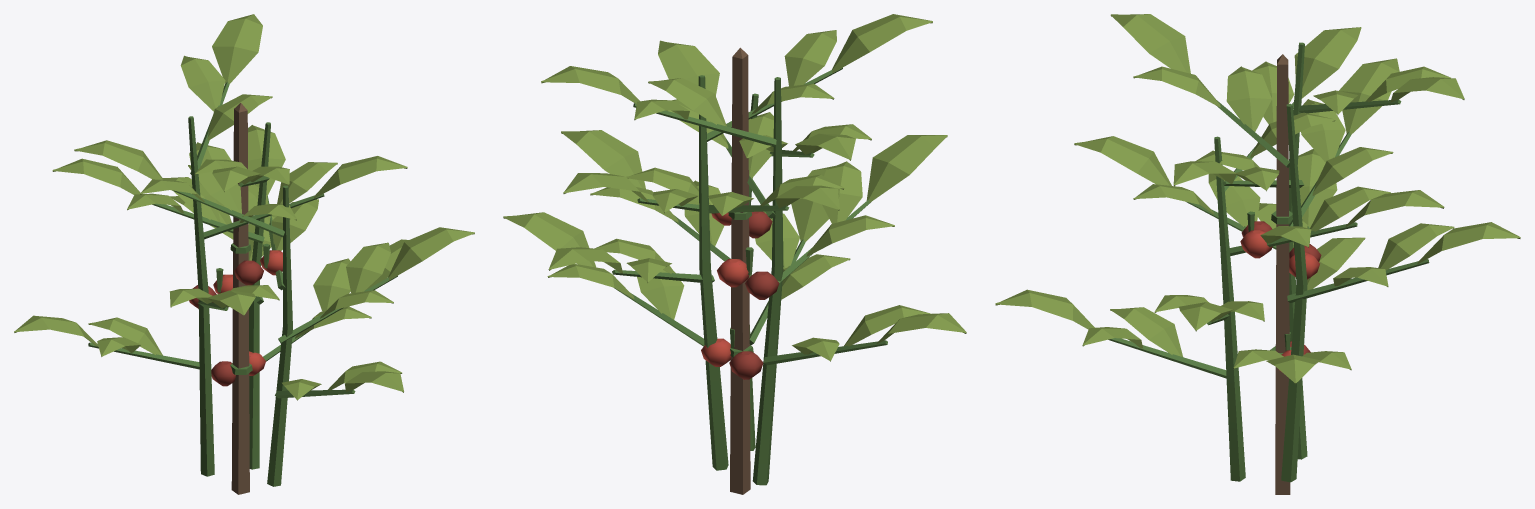
Rendered from crop_tomato_mature.glb.
3 renders of one model, left to right at view 1: azimuth 30°, elevation 25°; view 2: azimuth 150°, elevation 25°; view 3: azimuth 270°, elevation 25°, orthographic. The views are drawn at different scales.
Visible parts, largest first — view 1: tomato_leaf_00_00_leaflet_00, tomato_cluster_00_fruit_00_calyx_0, tomato_stake, tomato_cluster_00_fruit_01_body, tomato_cluster_00_fruit_00_body; view 2: tomato_leaf_00_00_leaflet_00, tomato_cluster_00_fruit_00_calyx_0, tomato_stake, tomato_cluster_00_fruit_01_body, tomato_cluster_00_fruit_00_body; view 3: tomato_leaf_00_00_leaflet_00, tomato_cluster_00_fruit_00_calyx_0, tomato_stake, tomato_cluster_00_fruit_00_body.
Boxes of the visible parts, x1=… form: tomato_leaf_00_00_leaflet_00: x1=14, y1=14, x2=474, y2=400; tomato_cluster_00_fruit_00_calyx_0: x1=88, y1=81, x2=397, y2=486; tomato_stake: x1=231, y1=103, x2=249, y2=494; tomato_cluster_00_fruit_01_body: x1=189, y1=260, x2=263, y2=386; tomato_cluster_00_fruit_00_body: x1=213, y1=250, x2=282, y2=375; tomato_leaf_00_00_leaflet_00: x1=503, y1=14, x2=966, y2=361; tomato_cluster_00_fruit_00_calyx_0: x1=612, y1=67, x2=887, y2=485; tomato_stake: x1=730, y1=47, x2=750, y2=494; tomato_cluster_00_fruit_01_body: x1=729, y1=211, x2=779, y2=379; tomato_cluster_00_fruit_00_body: x1=701, y1=212, x2=749, y2=366; tomato_leaf_00_00_leaflet_00: x1=995, y1=14, x2=1520, y2=384; tomato_cluster_00_fruit_00_calyx_0: x1=1108, y1=42, x2=1429, y2=482; tomato_stake: x1=1275, y1=54, x2=1290, y2=494; tomato_cluster_00_fruit_00_body: x1=1240, y1=230, x2=1319, y2=371.
Size of the model in its own units: 1.3 by 1.2 by 1.26.
